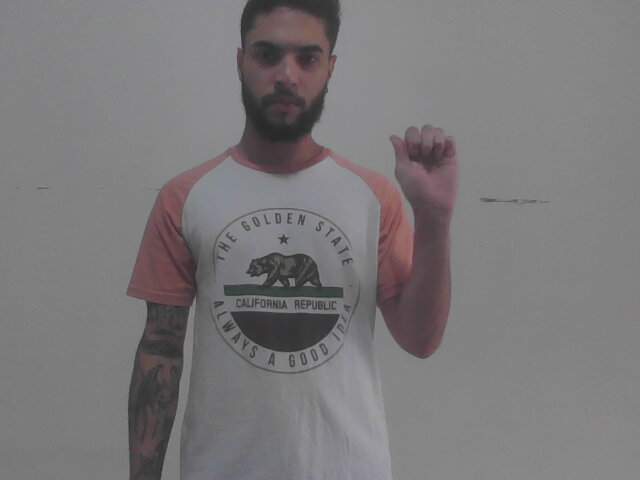a: (382, 117, 462, 215)
